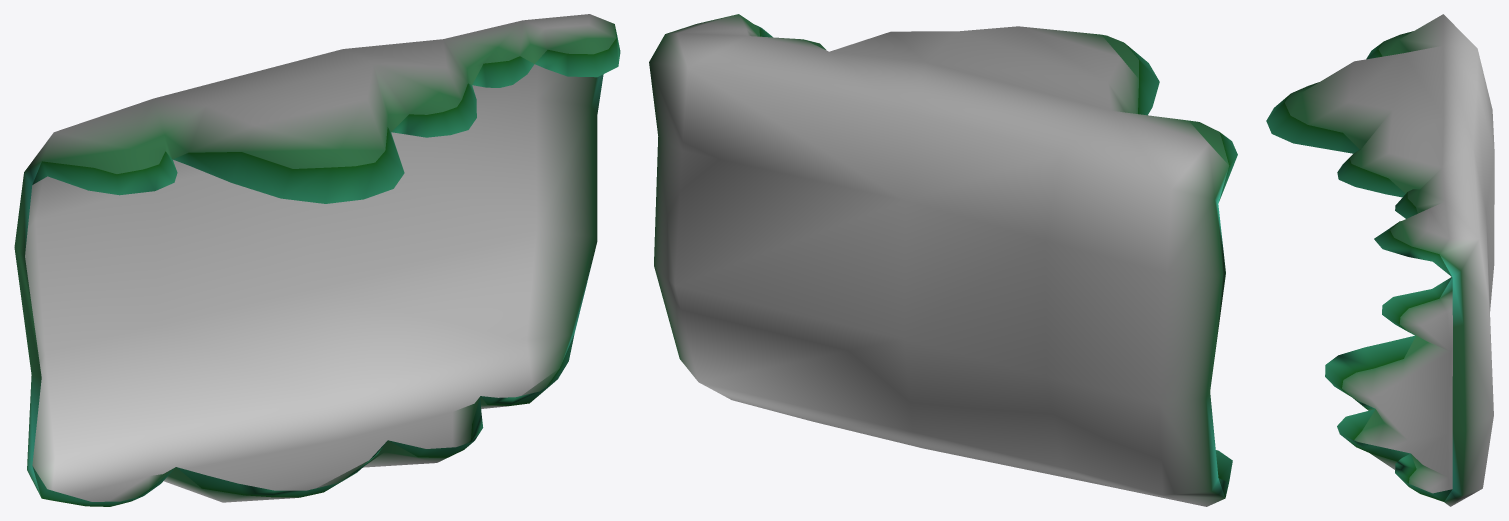
The model's file is PenglantisArchwaySeaweedB.fbx.
The picture shows the model from 3 angles, left to right: view 1: azimuth 30°, elevation 25°; view 2: azimuth 150°, elevation 25°; view 3: azimuth 270°, elevation 25°; orthographic projection. The views are drawn at different scales.
Visible parts, largest first — view 1: PenglantisArchwaySeaweedB; view 2: PenglantisArchwaySeaweedB; view 3: PenglantisArchwaySeaweedB.
Boxes of the visible parts, <box> form: PenglantisArchwaySeaweedB: <box>14,14,620,506</box>; PenglantisArchwaySeaweedB: <box>649,14,1237,506</box>; PenglantisArchwaySeaweedB: <box>1266,14,1494,506</box>.
Bounding box in the file's own units: 138 × 92.61 × 57.99.
